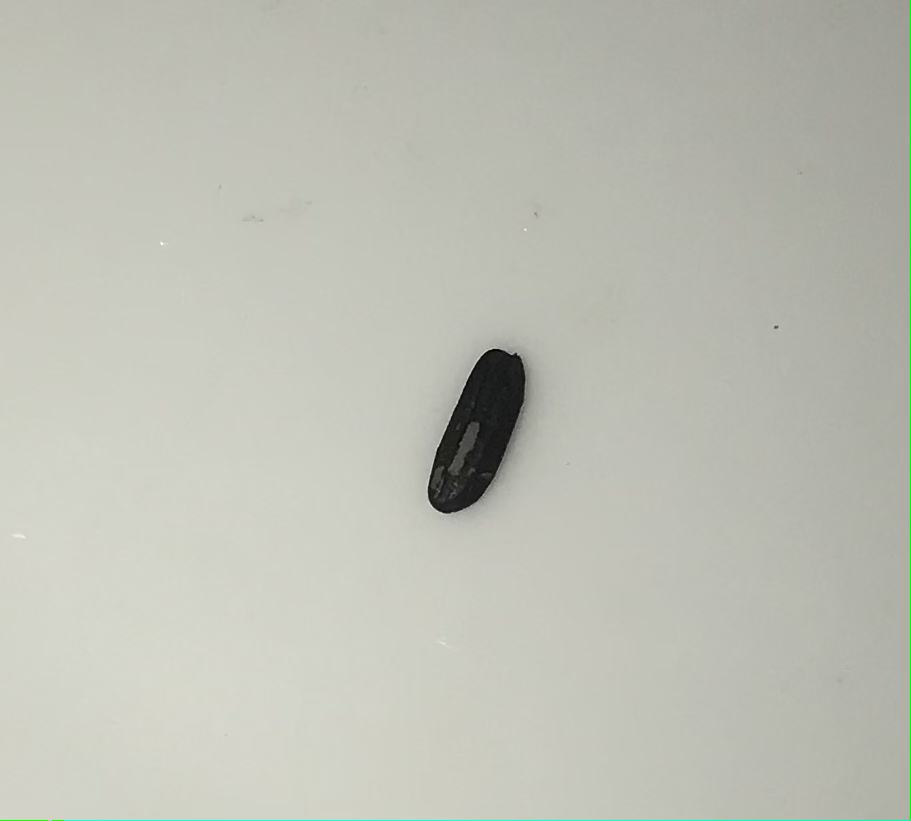Gao Nep Cam: (427, 348, 537, 523)
